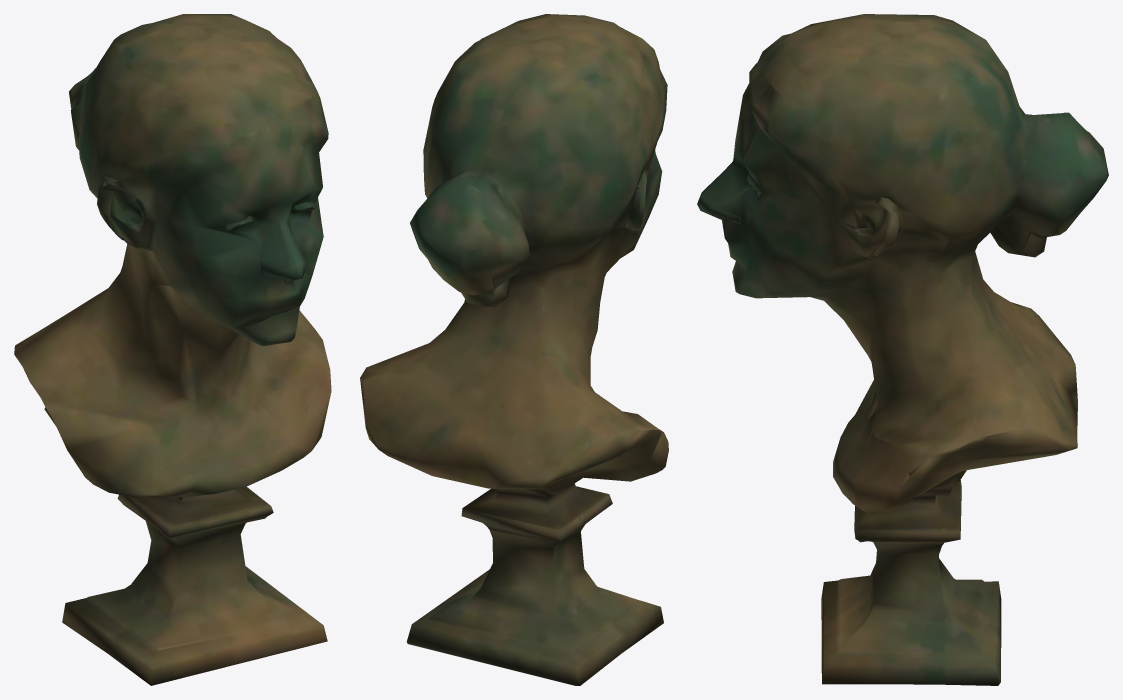
File: weathered-bronze-bust-v001.glb
3 renders of one model, left to right at view 1: azimuth 30°, elevation 25°; view 2: azimuth 150°, elevation 25°; view 3: azimuth 270°, elevation 25°, orthographic. The views are drawn at different scales.
Parts seen in each view (by area): view 1: weathered-bronze-bust; view 2: weathered-bronze-bust; view 3: weathered-bronze-bust.
Boxes of the visible parts, x1,y1,x2,y2 form: weathered-bronze-bust: (14, 14, 331, 685); weathered-bronze-bust: (360, 14, 668, 685); weathered-bronze-bust: (697, 14, 1108, 685).
Size of the model in its own units: 0.3337 by 0.698 by 0.4256.
1 material, 1 textured.
